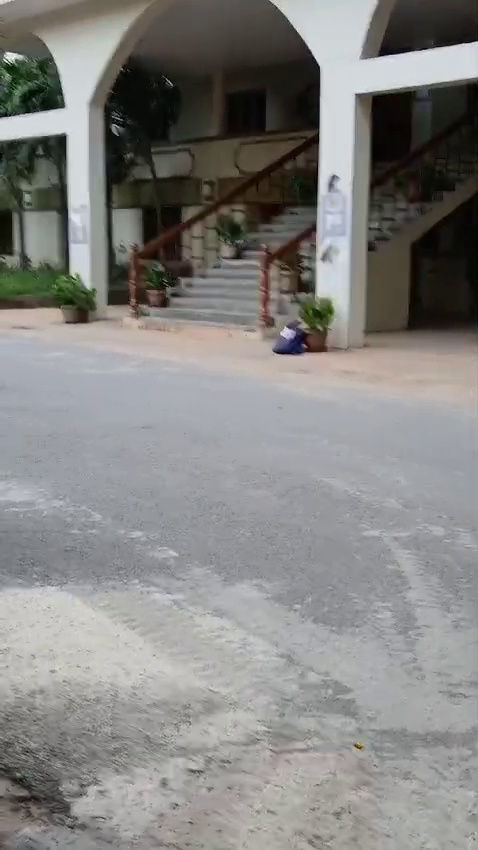bag: (267, 307, 304, 361)
